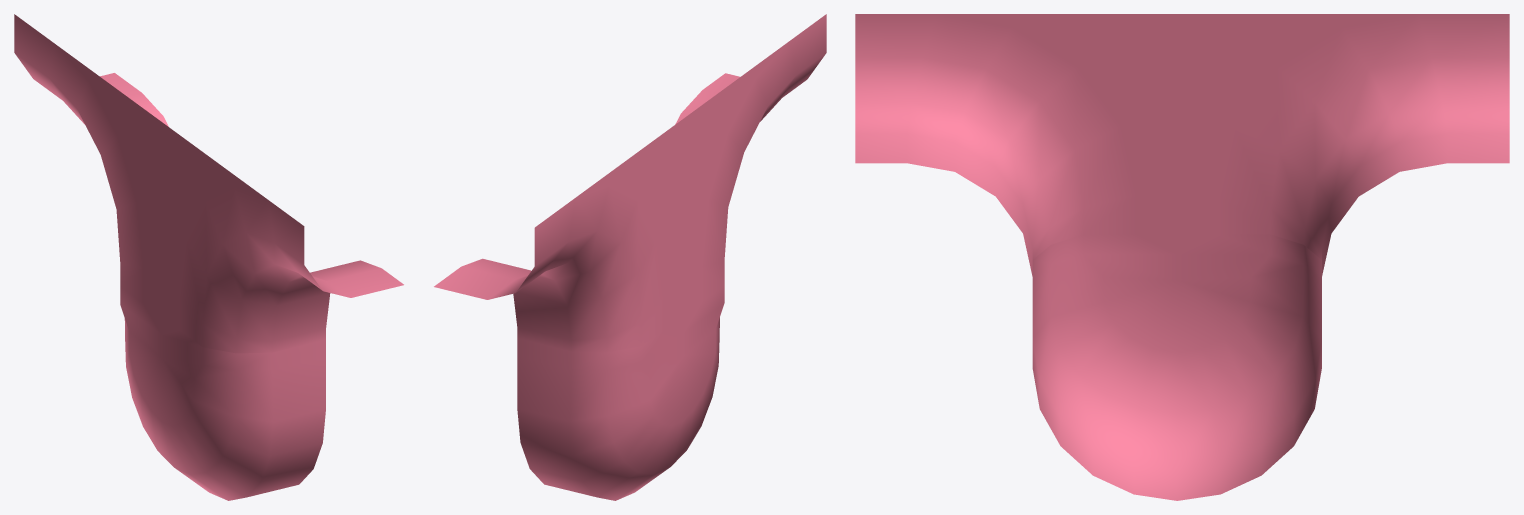
Rendered from SM_M_drop_3.fbx.
3 views of the same model, side by side, from view 1: azimuth 30°, elevation 25°; view 2: azimuth 150°, elevation 25°; view 3: azimuth 270°, elevation 25° (orthographic). The views are drawn at different scales.
Visible parts, largest first — view 1: SM_M_drop_3; view 2: SM_M_drop_3; view 3: SM_M_drop_3.
Part boxes in pixels (bbox=[...]): SM_M_drop_3: bbox=[14, 14, 403, 500]; SM_M_drop_3: bbox=[434, 14, 826, 500]; SM_M_drop_3: bbox=[855, 14, 1509, 500].
Bounding box in the file's own units: 164 × 598 × 822.
1 material, 1 textured.
